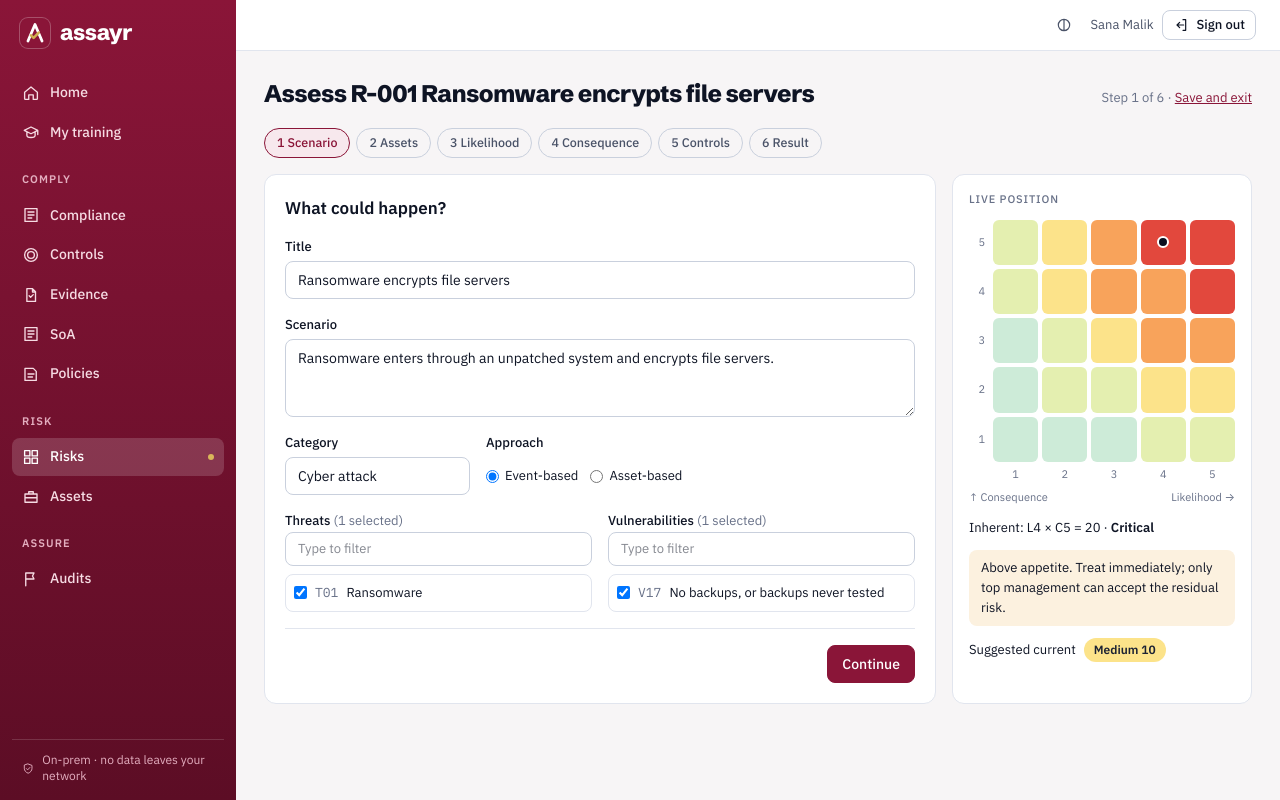
Test: finishing the assessment finalizes it and opens the risk
Click the button "6 Result" at (785, 143), box left=749, top=128, right=822, bottom=158
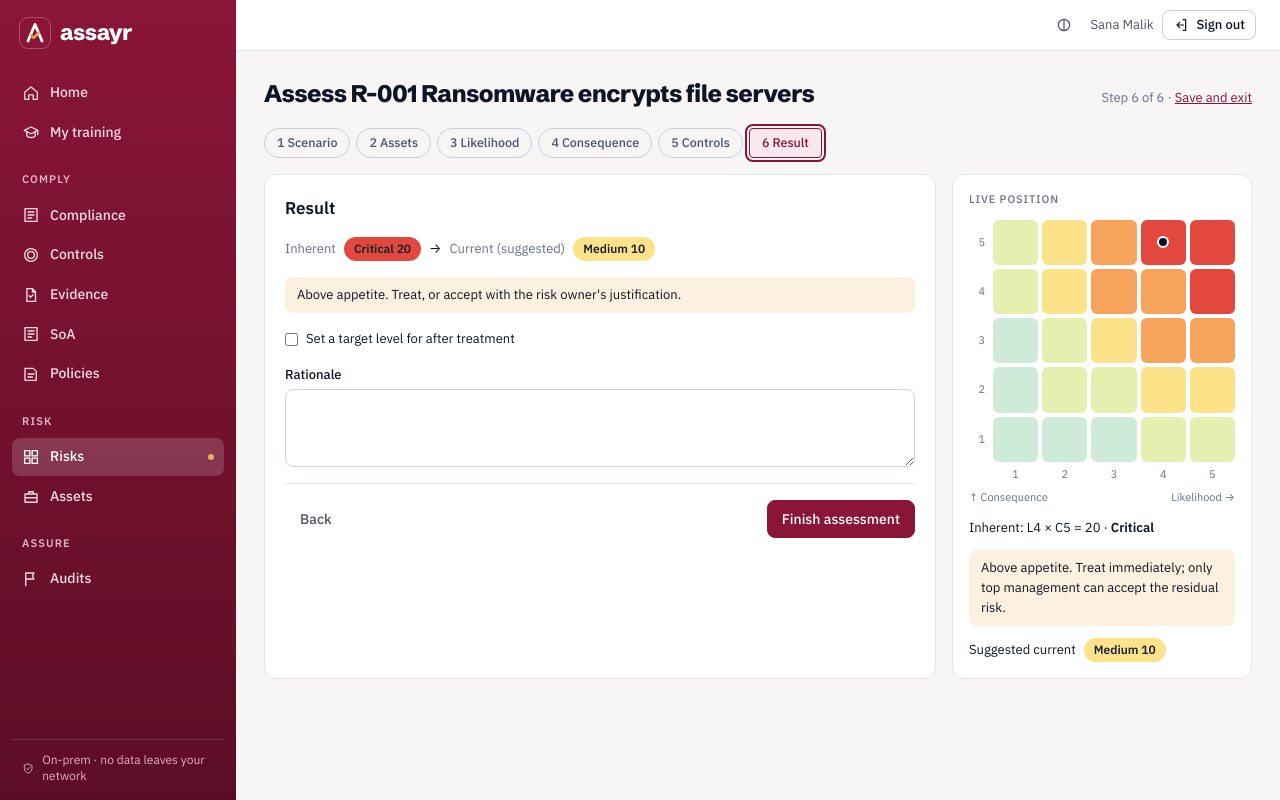
Expected: the text "Above appetite. Treat, or accept with the risk owner's justification." is shown, left=285, top=277, right=915, bottom=313
Click the button "Finish assessment" at (841, 520), box left=767, top=500, right=915, bottom=538
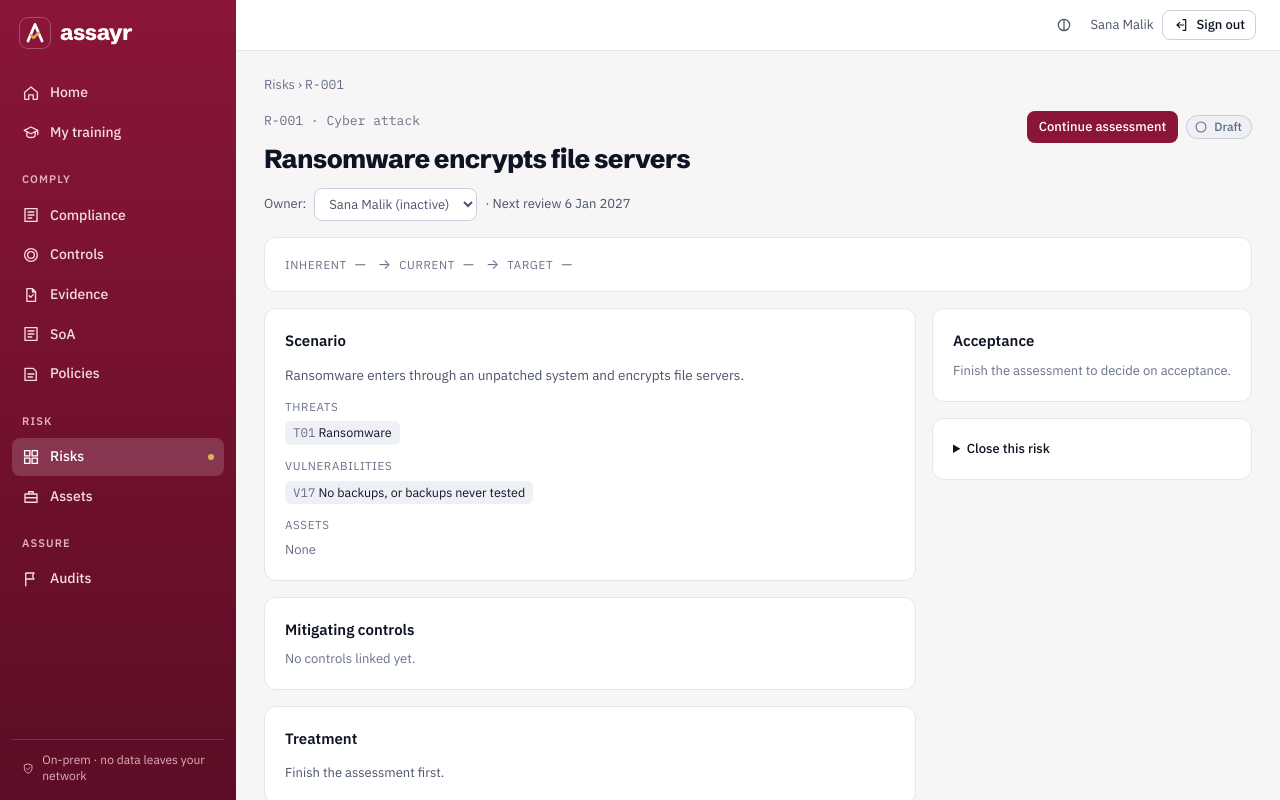
Expected: the element named "Risk levels" is shown, left=264, top=237, right=1252, bottom=292
